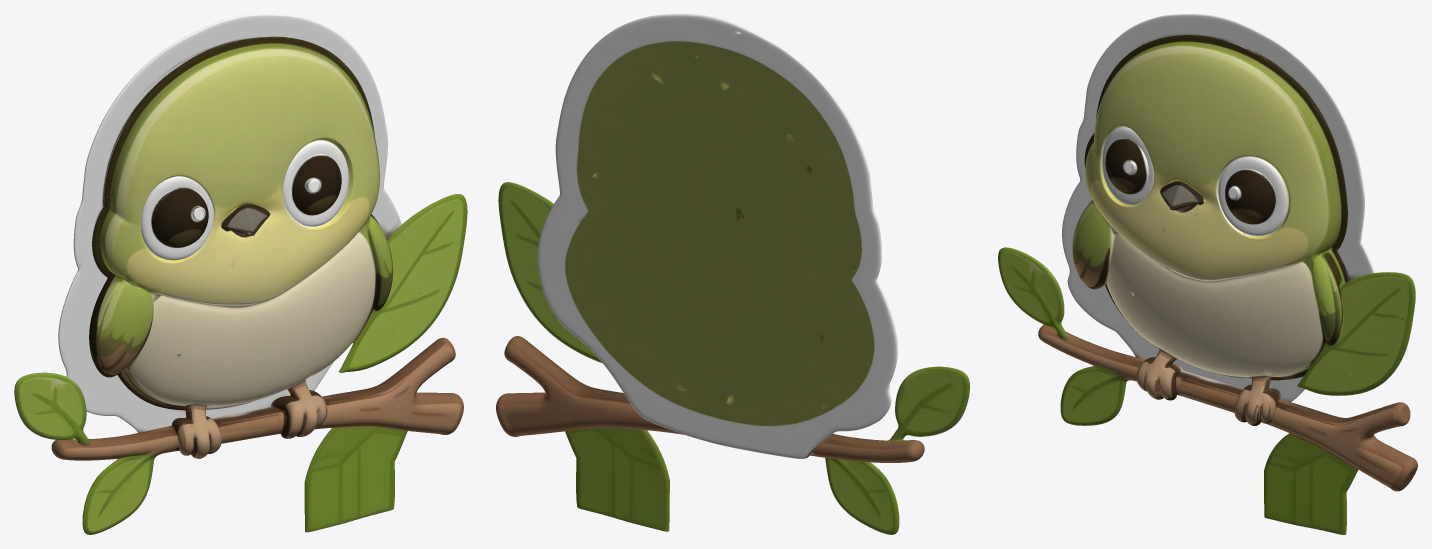
The model's file is common-tailorbird.glb.
3 renders of one model, left to right at view 1: azimuth 30°, elevation 25°; view 2: azimuth 150°, elevation 25°; view 3: azimuth 330°, elevation 25°, orthographic. The views are drawn at different scales.
Parts seen in each view (by area): view 1: node_0; view 2: node_0; view 3: node_0.
Part boxes in pixels (x1=…): node_0: x1=14, y1=14, x2=467, y2=534; node_0: x1=496, y1=14, x2=969, y2=534; node_0: x1=998, y1=14, x2=1417, y2=534.
Size of the model in its own units: 0.9408 by 1.03 by 0.1425.
1 material, 1 textured.
